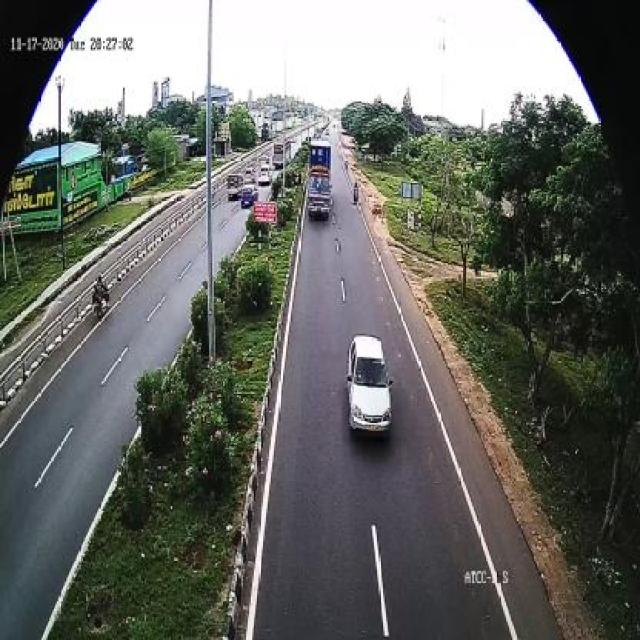car: (348, 332, 397, 445), (238, 186, 262, 211)
